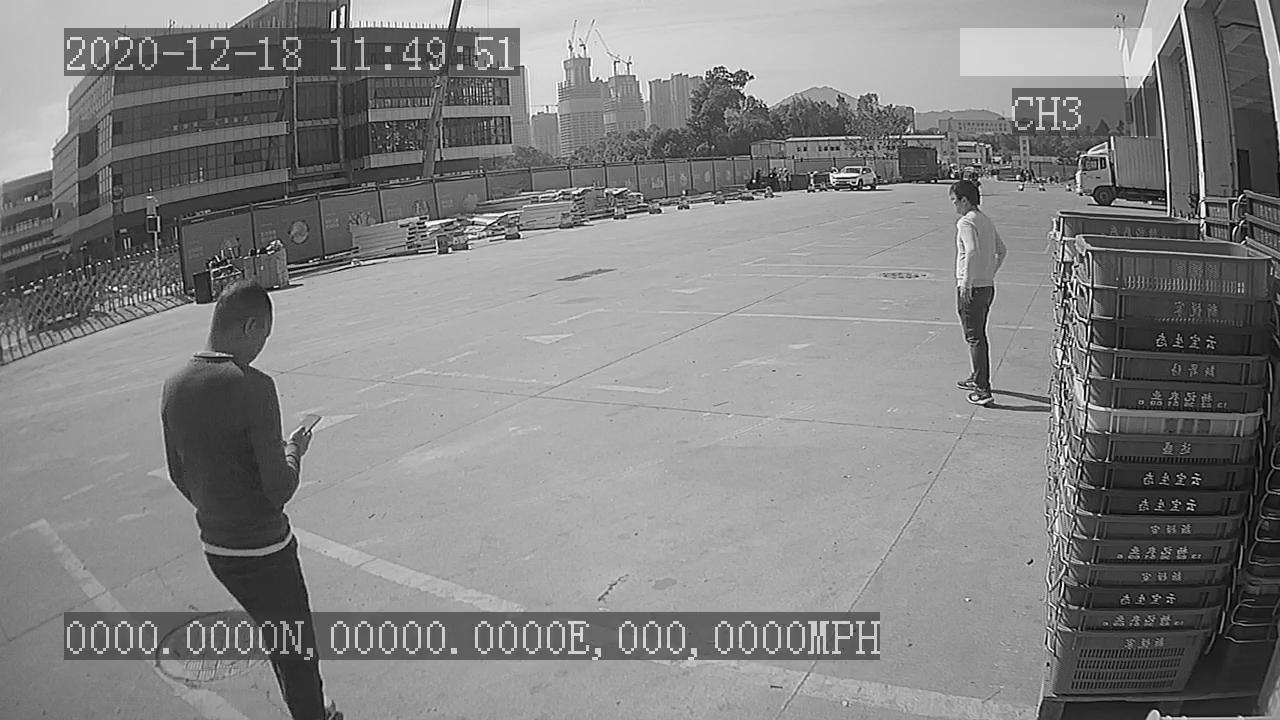person: (940, 177, 1011, 413)
